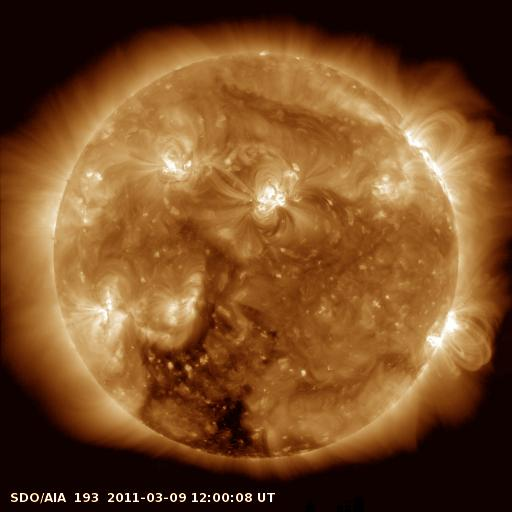coronal_hole: (134, 302, 270, 460)
